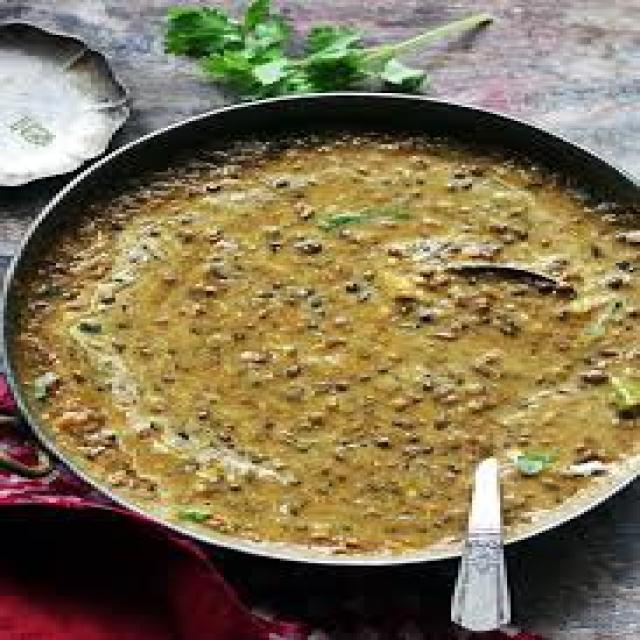dal_makhani: (13, 118, 640, 561)
